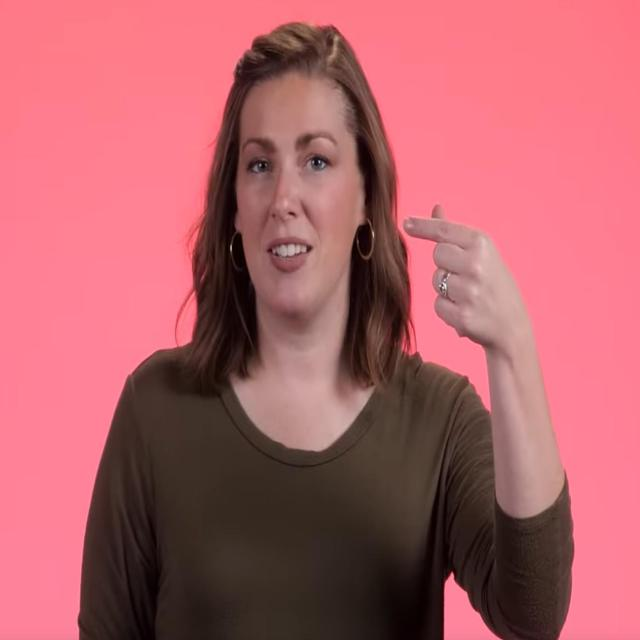G: (400, 198, 536, 348)
